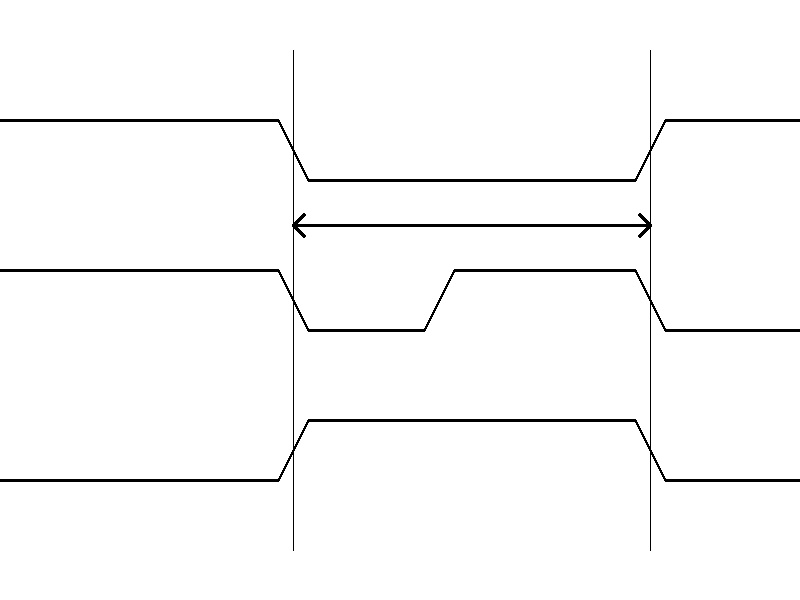double_arrow: (293, 210, 650, 240)
